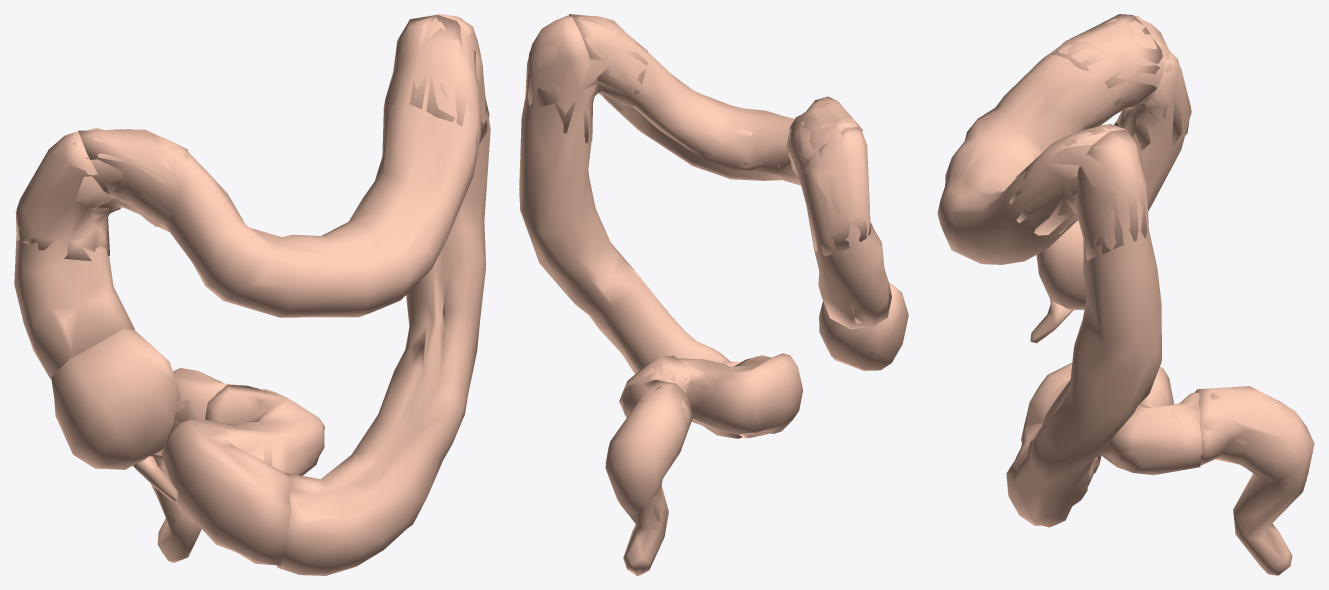
File: 3d-sbu-f-large-intestine_lod_20.glb
3 views of the same model, side by side, from view 1: azimuth 30°, elevation 25°; view 2: azimuth 150°, elevation 25°; view 3: azimuth 270°, elevation 25° (orthographic). The views are drawn at different scales.
Parts seen in each view (by area): view 1: VH_F_transverse_colon, VH_F_descending_colon, VH_F_sigmoid_colon, VH_F_ascending_colon, VH_F_caecum, VH_F_hepatic_flexure_of_colon, VH_F_rectum, VH_F_splenic_flexure_of_colon, VH_F_vermiform_appendix; view 2: VH_F_descending_colon, VH_F_transverse_colon, VH_F_ascending_colon, VH_F_rectum, VH_F_sigmoid_colon, VH_F_caecum, VH_F_splenic_flexure_of_colon, VH_F_hepatic_flexure_of_colon; view 3: VH_F_descending_colon, VH_F_transverse_colon, VH_F_rectum, VH_F_sigmoid_colon, VH_F_splenic_flexure_of_colon, VH_F_hepatic_flexure_of_colon, VH_F_ascending_colon, VH_F_caecum, VH_F_vermiform_appendix.
Boxes of the visible parts, x1,y1,x2,y2 form: VH_F_transverse_colon: (78, 15, 481, 317); VH_F_descending_colon: (277, 14, 490, 575); VH_F_sigmoid_colon: (162, 384, 324, 565); VH_F_ascending_colon: (14, 131, 134, 378); VH_F_caecum: (51, 329, 180, 469); VH_F_hepatic_flexure_of_colon: (15, 128, 188, 261); VH_F_rectum: (150, 368, 237, 562); VH_F_splenic_flexure_of_colon: (384, 14, 489, 146); VH_F_vermiform_appendix: (133, 456, 178, 501); VH_F_descending_colon: (519, 15, 742, 438); VH_F_transverse_colon: (569, 14, 862, 185); VH_F_ascending_colon: (799, 127, 891, 329); VH_F_rectum: (605, 380, 693, 575); VH_F_sigmoid_colon: (619, 353, 802, 438); VH_F_caecum: (819, 282, 908, 370); VH_F_splenic_flexure_of_colon: (525, 16, 648, 143); VH_F_hepatic_flexure_of_colon: (788, 96, 872, 255); VH_F_descending_colon: (1006, 129, 1161, 527); VH_F_transverse_colon: (937, 14, 1162, 264); VH_F_rectum: (1195, 386, 1314, 575); VH_F_sigmoid_colon: (1021, 363, 1202, 475); VH_F_splenic_flexure_of_colon: (1009, 124, 1148, 260); VH_F_hepatic_flexure_of_colon: (1052, 16, 1190, 149); VH_F_ascending_colon: (1114, 16, 1191, 211); VH_F_caecum: (1036, 220, 1086, 310); VH_F_vermiform_appendix: (1030, 299, 1072, 343).
Size of the model in its own units: 0.2425 by 0.2957 by 0.1943.
